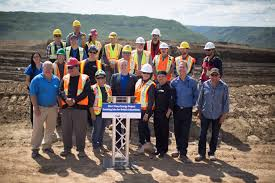helmet: (204, 39, 218, 49), (135, 35, 145, 45), (65, 58, 77, 66), (142, 64, 152, 73), (71, 18, 81, 27), (95, 70, 107, 77), (158, 42, 168, 49), (180, 43, 191, 49), (91, 28, 99, 36), (152, 28, 161, 35), (54, 28, 61, 34), (110, 32, 117, 38)
vest: (62, 76, 86, 104), (93, 87, 111, 116), (138, 80, 155, 110), (177, 55, 197, 77), (154, 55, 170, 77), (107, 43, 119, 63), (132, 50, 147, 66), (66, 46, 83, 59), (48, 43, 65, 55), (87, 42, 102, 47)
